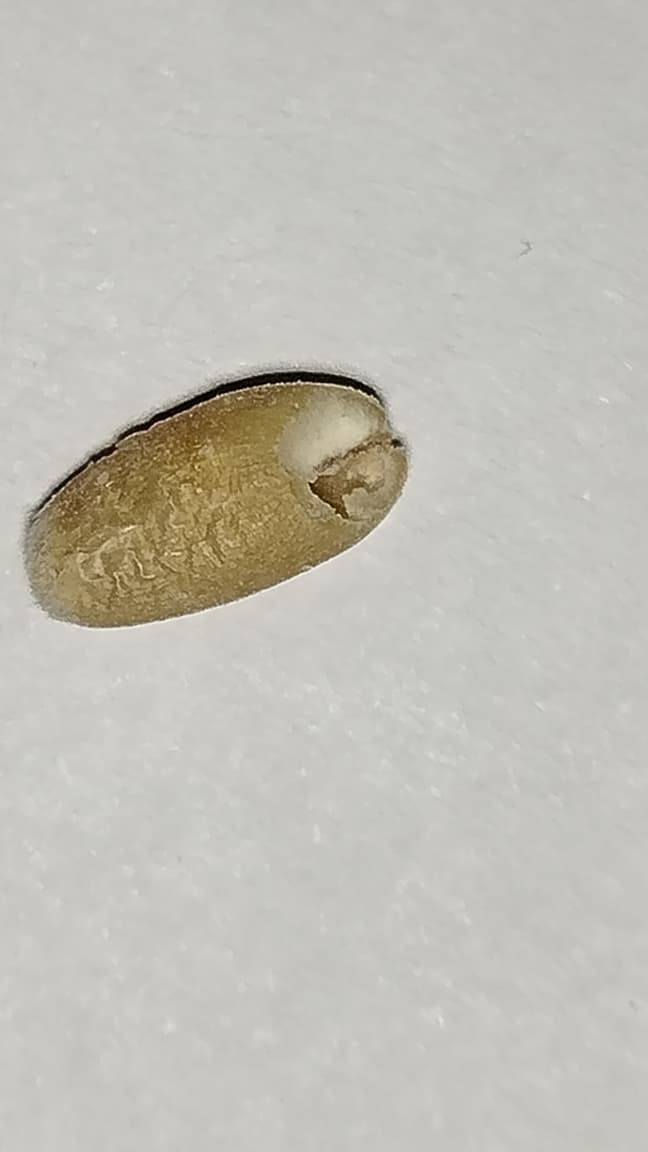damage: (29, 382, 404, 625)
insectdamage: (259, 373, 395, 521)
shriveledseed: (76, 450, 240, 605)
